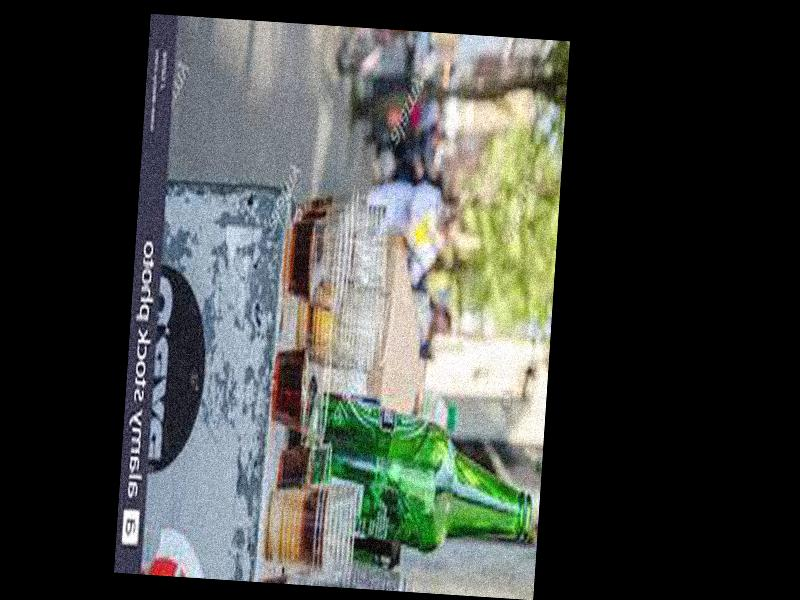Beer: (288, 387, 538, 561)
